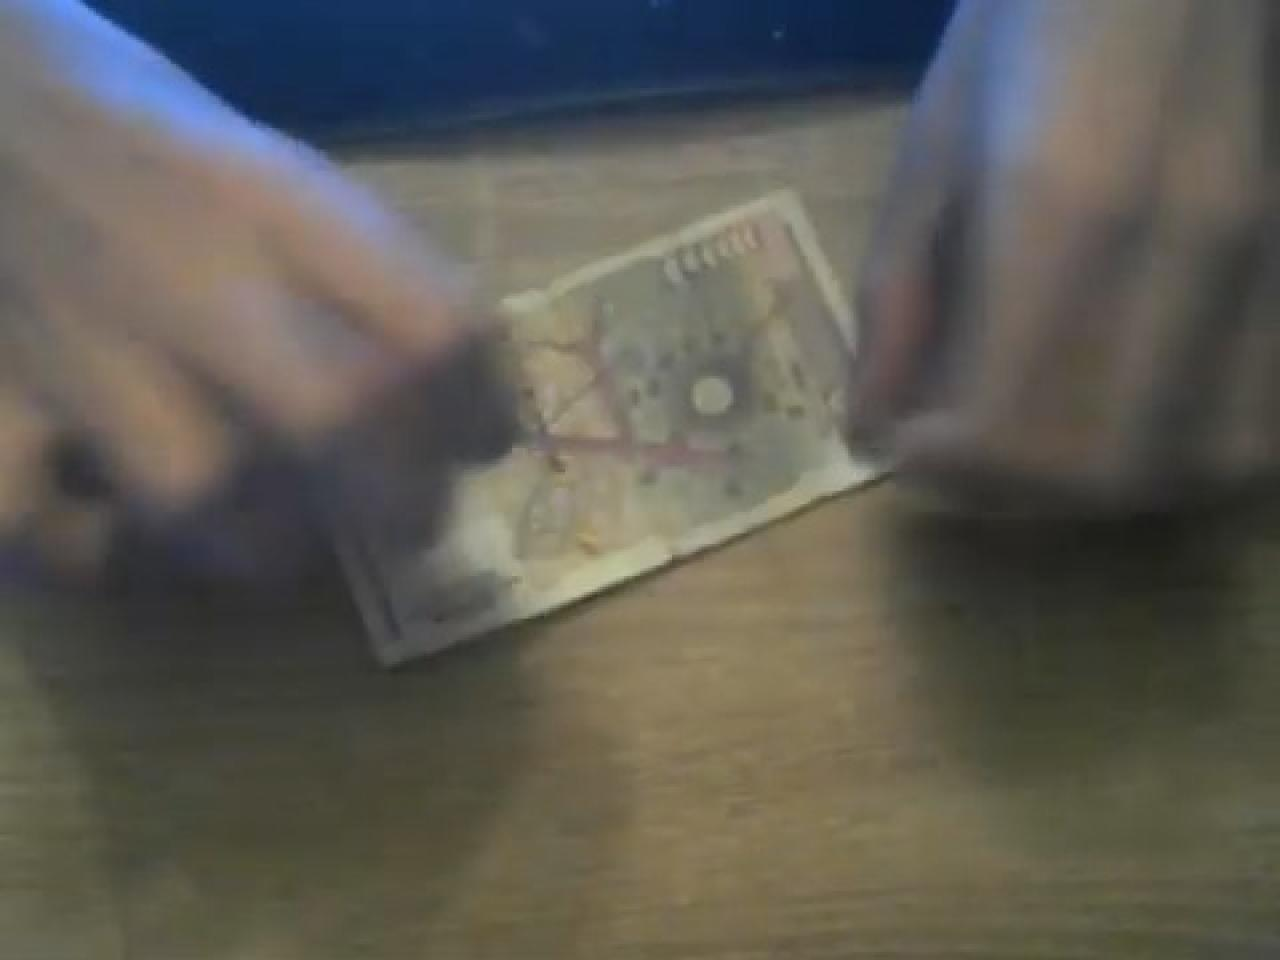10leva: (379, 190, 870, 667)
